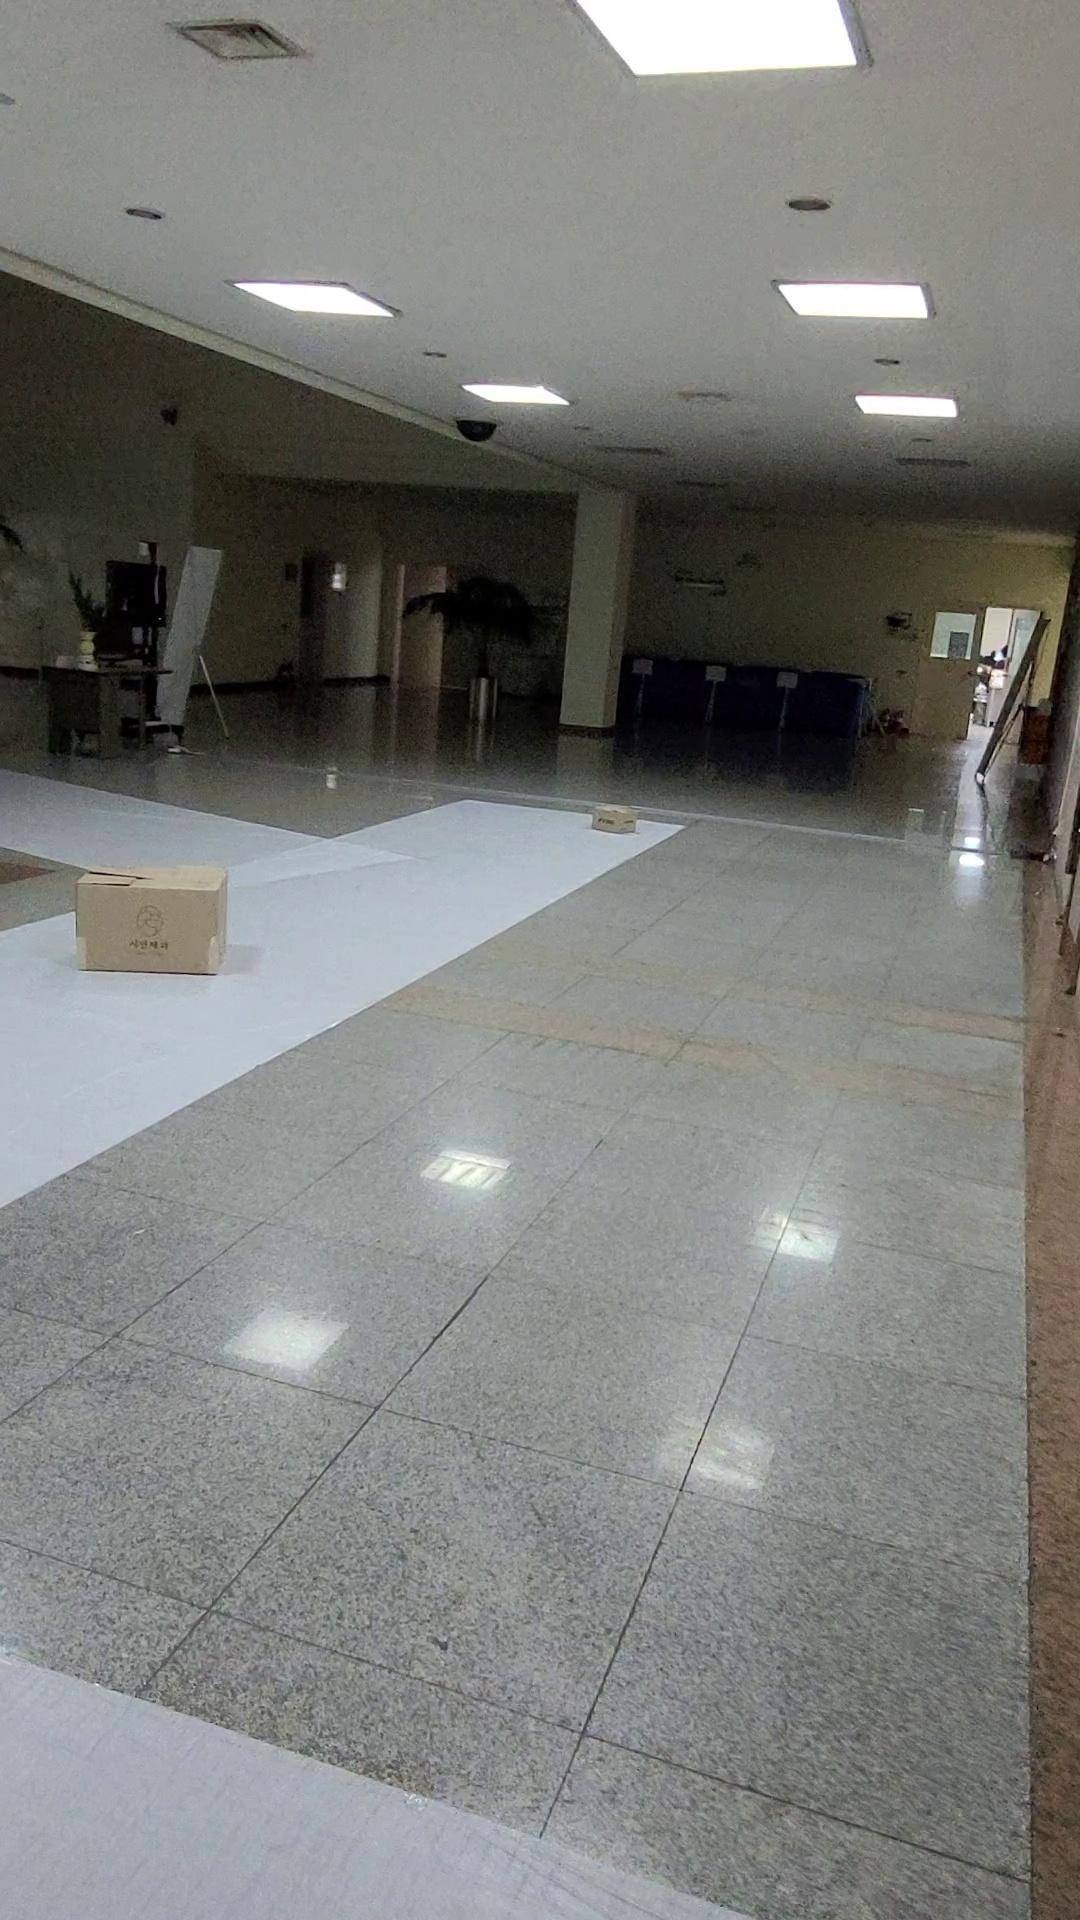Box: (58, 804, 265, 1022), (576, 783, 670, 858)
